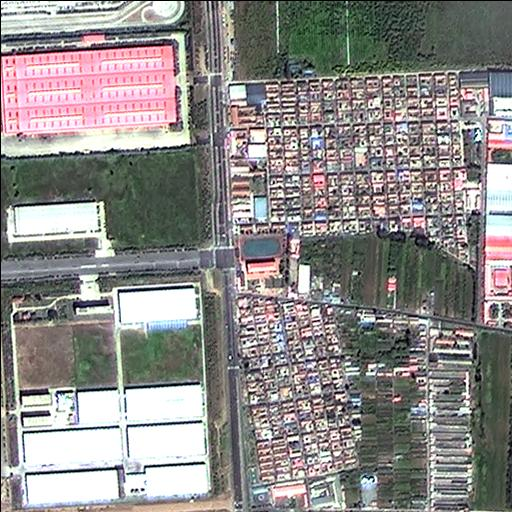school: (236, 224, 287, 297)
